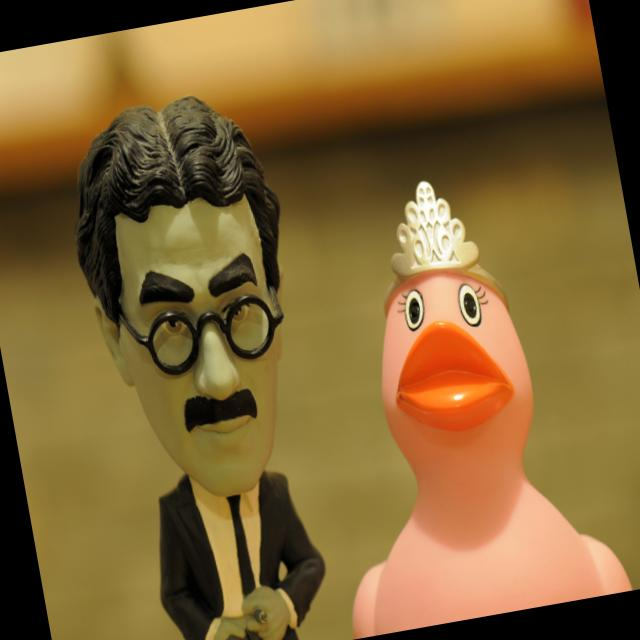Toy: (55, 82, 358, 640), (308, 206, 595, 634)
